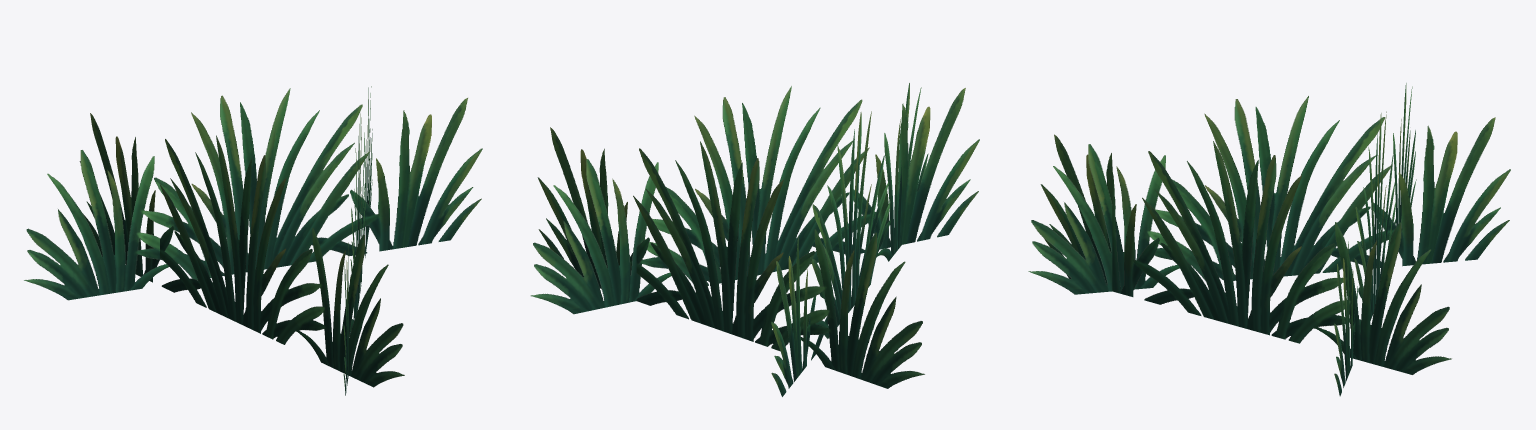
The model's file is sm_grassTri.obj.
3 renders of one model, left to right at view 1: azimuth 30°, elevation 25°; view 2: azimuth 150°, elevation 25°; view 3: azimuth 270°, elevation 25°, orthographic. The views are drawn at different scales.
Visible parts, largest first — view 1: Grass5 Grass; view 2: Grass5 Grass; view 3: Grass5 Grass.
Boxes of the visible parts, x1,y1,x2,y2 form: Grass5 Grass: [24, 86, 482, 395]; Grass5 Grass: [530, 83, 979, 396]; Grass5 Grass: [1028, 83, 1510, 396].
Size of the model in its own units: 0.9934 by 0.4063 by 0.9868.
